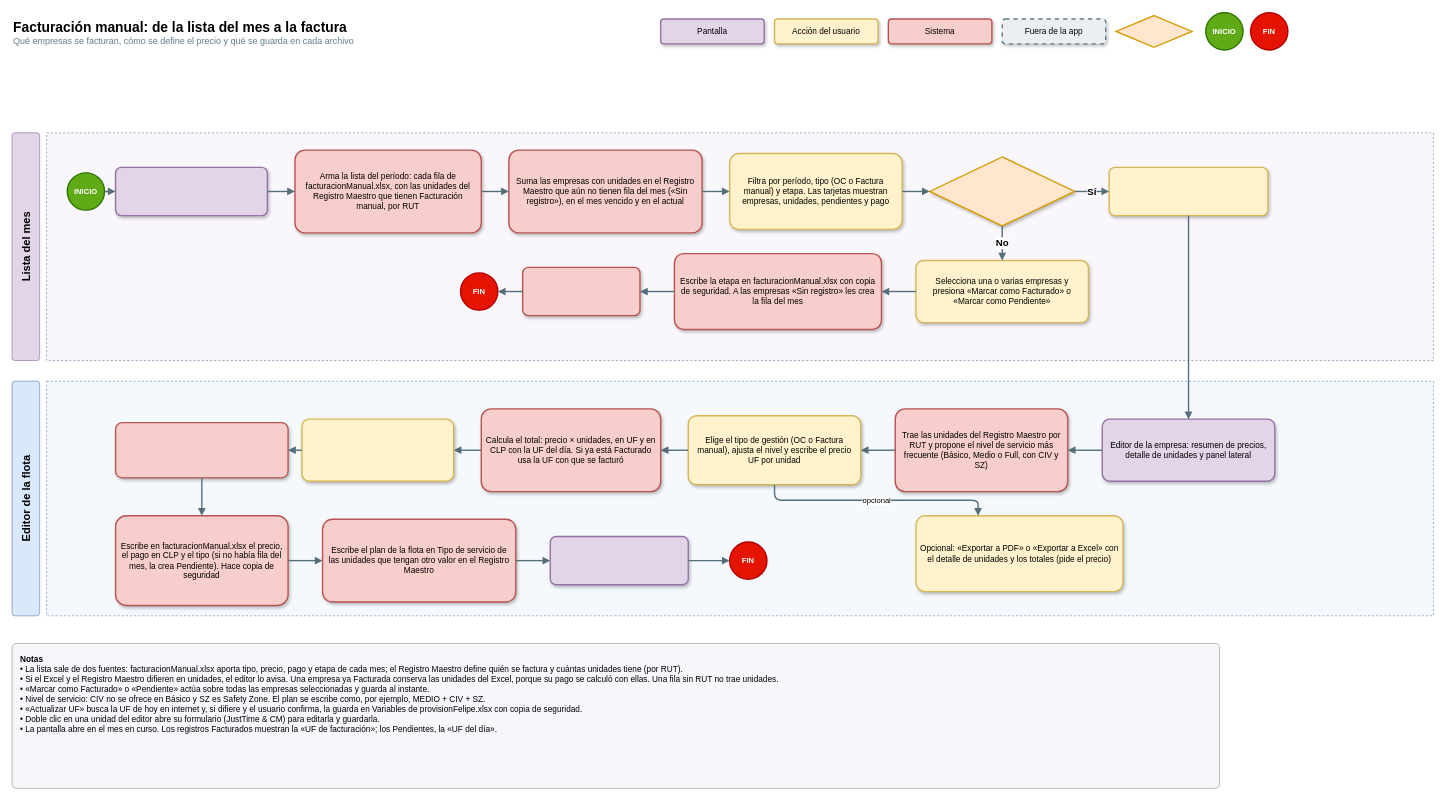
Some shapes in this 1446 by 800 pixel diagram are drawn without their labels. Each missing label, with the centre of its shape:
"Decisión" belongs at point 1153,31.
"Doble clic en la empresa o «Abrir editor»" belongs at point 1188,192.
"Ingresos y Conciliación › Facturación Manual" belongs at point 192,192.
"Pide confirmar: tipo, precio × unidades, total y plan" belongs at point 202,451.
"Presiona «Guardar facturación» (se habilita con tipo, precio y UF)" belongs at point 378,450.
"Recarga la lista" belongs at point 581,292.
"Vuelve a la lista" belongs at point 619,561.
"¿Abre el editor de una empresa?" belongs at point 1002,192.
